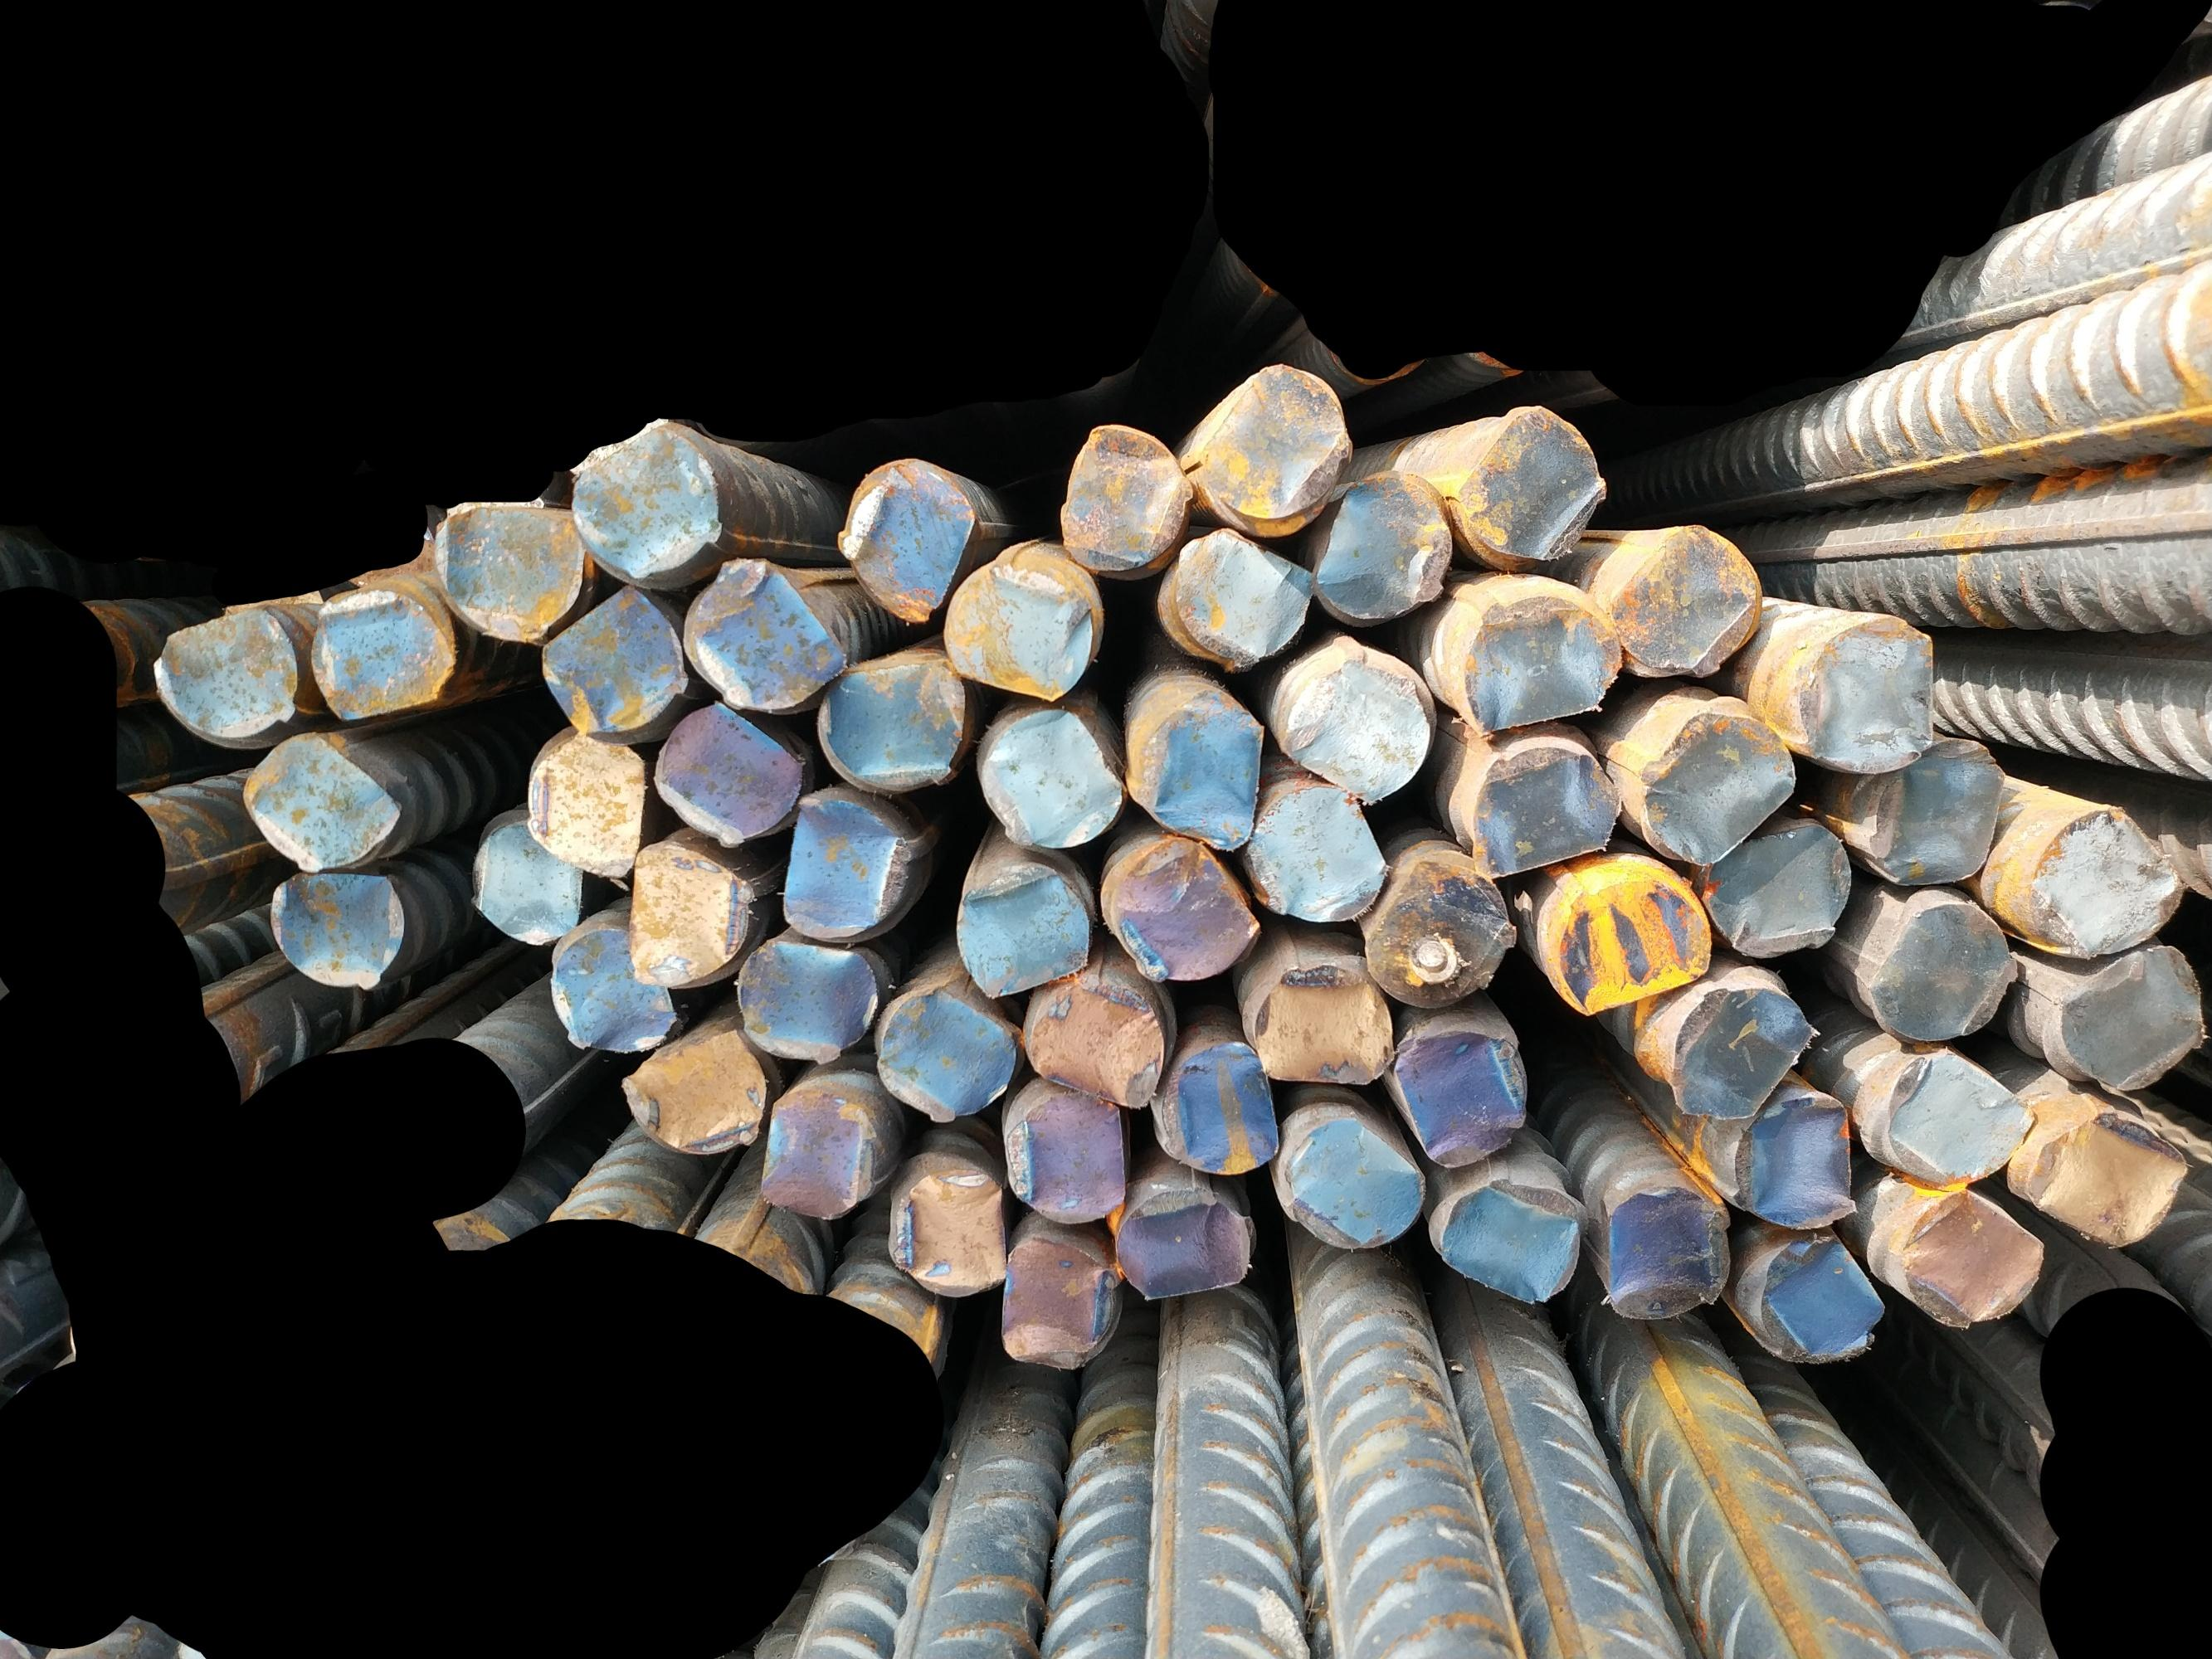bar: (675, 551, 847, 716), (1543, 861, 1719, 1021), (1191, 359, 1356, 526), (563, 415, 725, 584), (1445, 587, 1626, 735), (2017, 803, 2186, 962), (1447, 403, 1607, 568), (1632, 706, 1797, 866), (835, 457, 985, 631), (1841, 734, 2006, 890), (940, 554, 1107, 709), (2017, 1105, 2191, 1253), (521, 584, 685, 741), (420, 502, 591, 652), (1787, 613, 1942, 777), (1604, 521, 1766, 674), (1279, 645, 1435, 803), (1360, 856, 1518, 1011), (647, 694, 807, 845), (235, 730, 403, 873), (1896, 1175, 2048, 1331), (1386, 1018, 1536, 1176), (1860, 899, 2025, 1042), (2057, 939, 2207, 1096), (145, 603, 310, 744), (1698, 819, 1856, 964), (1109, 836, 1262, 985), (1164, 526, 1318, 674), (981, 697, 1128, 852), (1306, 469, 1452, 622), (1665, 974, 1818, 1121), (302, 586, 455, 730), (1881, 1046, 2034, 1190), (814, 653, 967, 796), (1464, 742, 1621, 880), (1431, 1175, 1588, 1312), (725, 931, 884, 1066), (1060, 420, 1199, 573), (619, 842, 755, 993), (779, 788, 912, 943), (1731, 1080, 1860, 1239), (521, 725, 652, 880), (1248, 782, 1389, 925), (1279, 1114, 1424, 1253), (875, 986, 1021, 1124), (1133, 702, 1267, 852), (615, 1028, 770, 1157), (955, 859, 1095, 1002), (1016, 978, 1168, 1108), (1241, 962, 1394, 1089), (1750, 1225, 1886, 1364), (1597, 1182, 1731, 1321), (999, 1086, 1131, 1227), (1110, 1182, 1259, 1304), (261, 866, 408, 988), (884, 1162, 1011, 1302), (1157, 1039, 1285, 1178), (549, 925, 678, 1060), (755, 1087, 885, 1218), (990, 1239, 1121, 1370), (467, 814, 587, 948)
